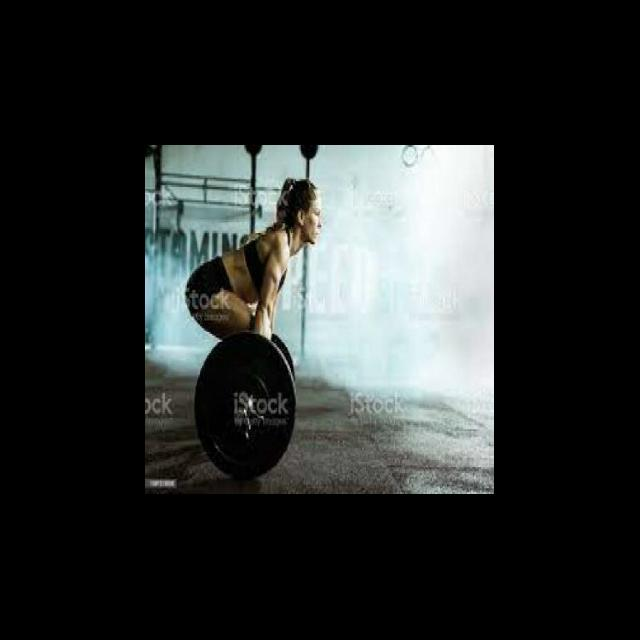barbell: (190, 327, 305, 488)
